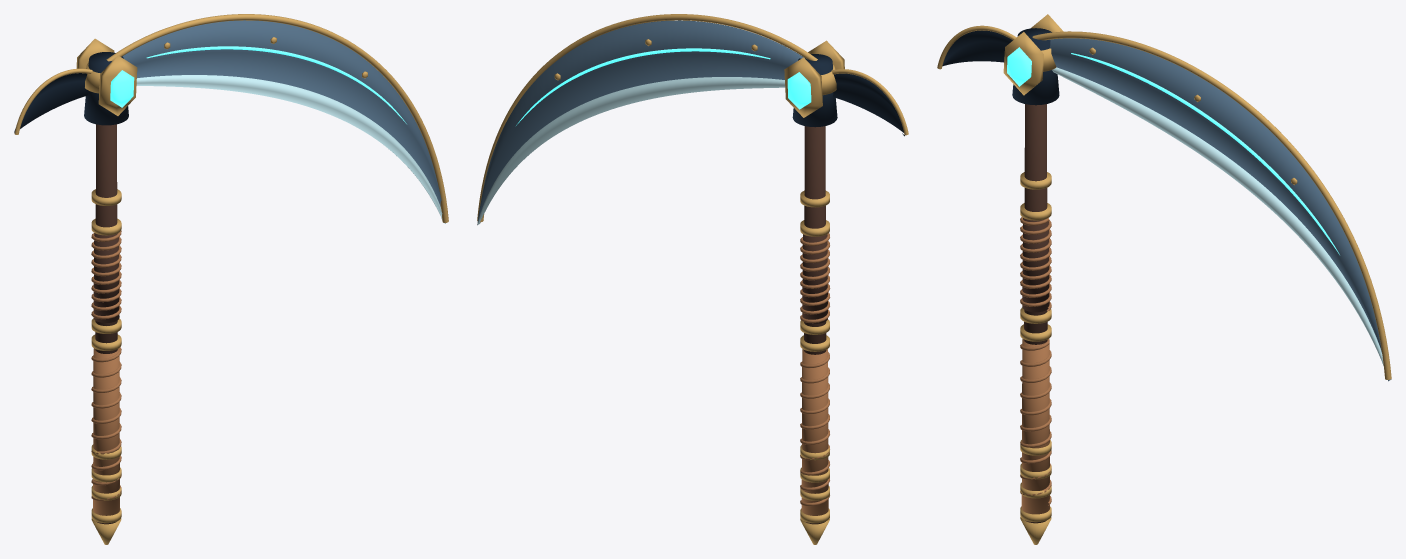
The model's file is starlight-scythe.glb.
3 renders of one model, left to right at view 1: azimuth 30°, elevation 25°; view 2: azimuth 150°, elevation 25°; view 3: azimuth 330°, elevation 25°, orthographic. The views are drawn at different scales.
Parts seen in each view (by area): view 1: 月弧主刃, 磨亮內刃, 下握把, 金色刃脊, 木柄, 短月鉤, 上握把, 交叉皮繩纏握.001, 刃座, 交叉皮繩纏握, 星核金座, 星光凹槽 (+2 smaller); view 2: 月弧主刃, 磨亮內刃, 下握把, 金色刃脊, 木柄, 短月鉤, 上握把, 交叉皮繩纏握.001, 交叉皮繩纏握, 刃座, 星核金座.001, 星光凹槽.001 (+2 smaller); view 3: 月弧主刃, 磨亮內刃, 金色刃脊, 下握把, 木柄, 短月鉤, 上握把, 交叉皮繩纏握.001, 交叉皮繩纏握, 刃座, 星光凹槽, 星核金座 (+1 smaller).
Part boxes in pixels (box(x1,y1,x2,y2)): 月弧主刃: box(122, 20, 441, 206); 磨亮內刃: box(136, 75, 445, 223); 下握把: box(93, 348, 119, 515); 金色刃脊: box(106, 14, 448, 222); 木柄: box(95, 124, 117, 524); 短月鉤: box(14, 73, 88, 132); 上握把: box(93, 233, 119, 322); 交叉皮繩纏握.001: box(91, 230, 121, 319); 刃座: box(84, 52, 128, 125); 交叉皮繩纏握: box(91, 347, 121, 500); 星核金座: box(98, 55, 137, 115); 星光凹槽: box(146, 46, 406, 123); 月弧主刃: box(477, 20, 804, 224); 磨亮內刃: box(477, 77, 785, 225); 下握把: box(801, 349, 828, 515); 金色刃脊: box(477, 14, 817, 222); 木柄: box(804, 126, 826, 524); 短月鉤: box(833, 73, 904, 136); 上握把: box(802, 234, 827, 323); 交叉皮繩纏握.001: box(800, 233, 830, 323); 交叉皮繩纏握: box(800, 352, 829, 506); 刃座: box(792, 54, 837, 127); 星核金座.001: box(784, 57, 822, 117); 星光凹槽.001: box(516, 48, 770, 125); 月弧主刃: box(1049, 38, 1391, 381); 磨亮內刃: box(1052, 67, 1388, 380); 金色刃脊: box(1032, 31, 1391, 379); 下握把: box(1021, 339, 1049, 514); 木柄: box(1024, 104, 1047, 523); 短月鉤: box(942, 30, 1012, 66); 上握把: box(1022, 218, 1049, 312); 交叉皮繩纏握.001: box(1020, 217, 1051, 310); 交叉皮繩纏握: box(1020, 341, 1051, 505); 刃座: box(1012, 28, 1059, 105); 星光凹槽: box(1071, 53, 1339, 254); 星核金座: box(1003, 32, 1043, 95).
Size of the model in its own units: 2 by 2.22 by 0.2945.
